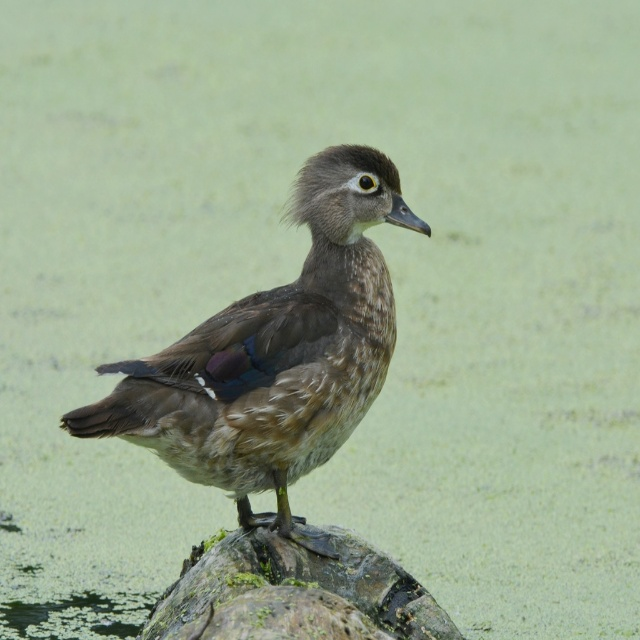Duck: (48, 128, 442, 565)
